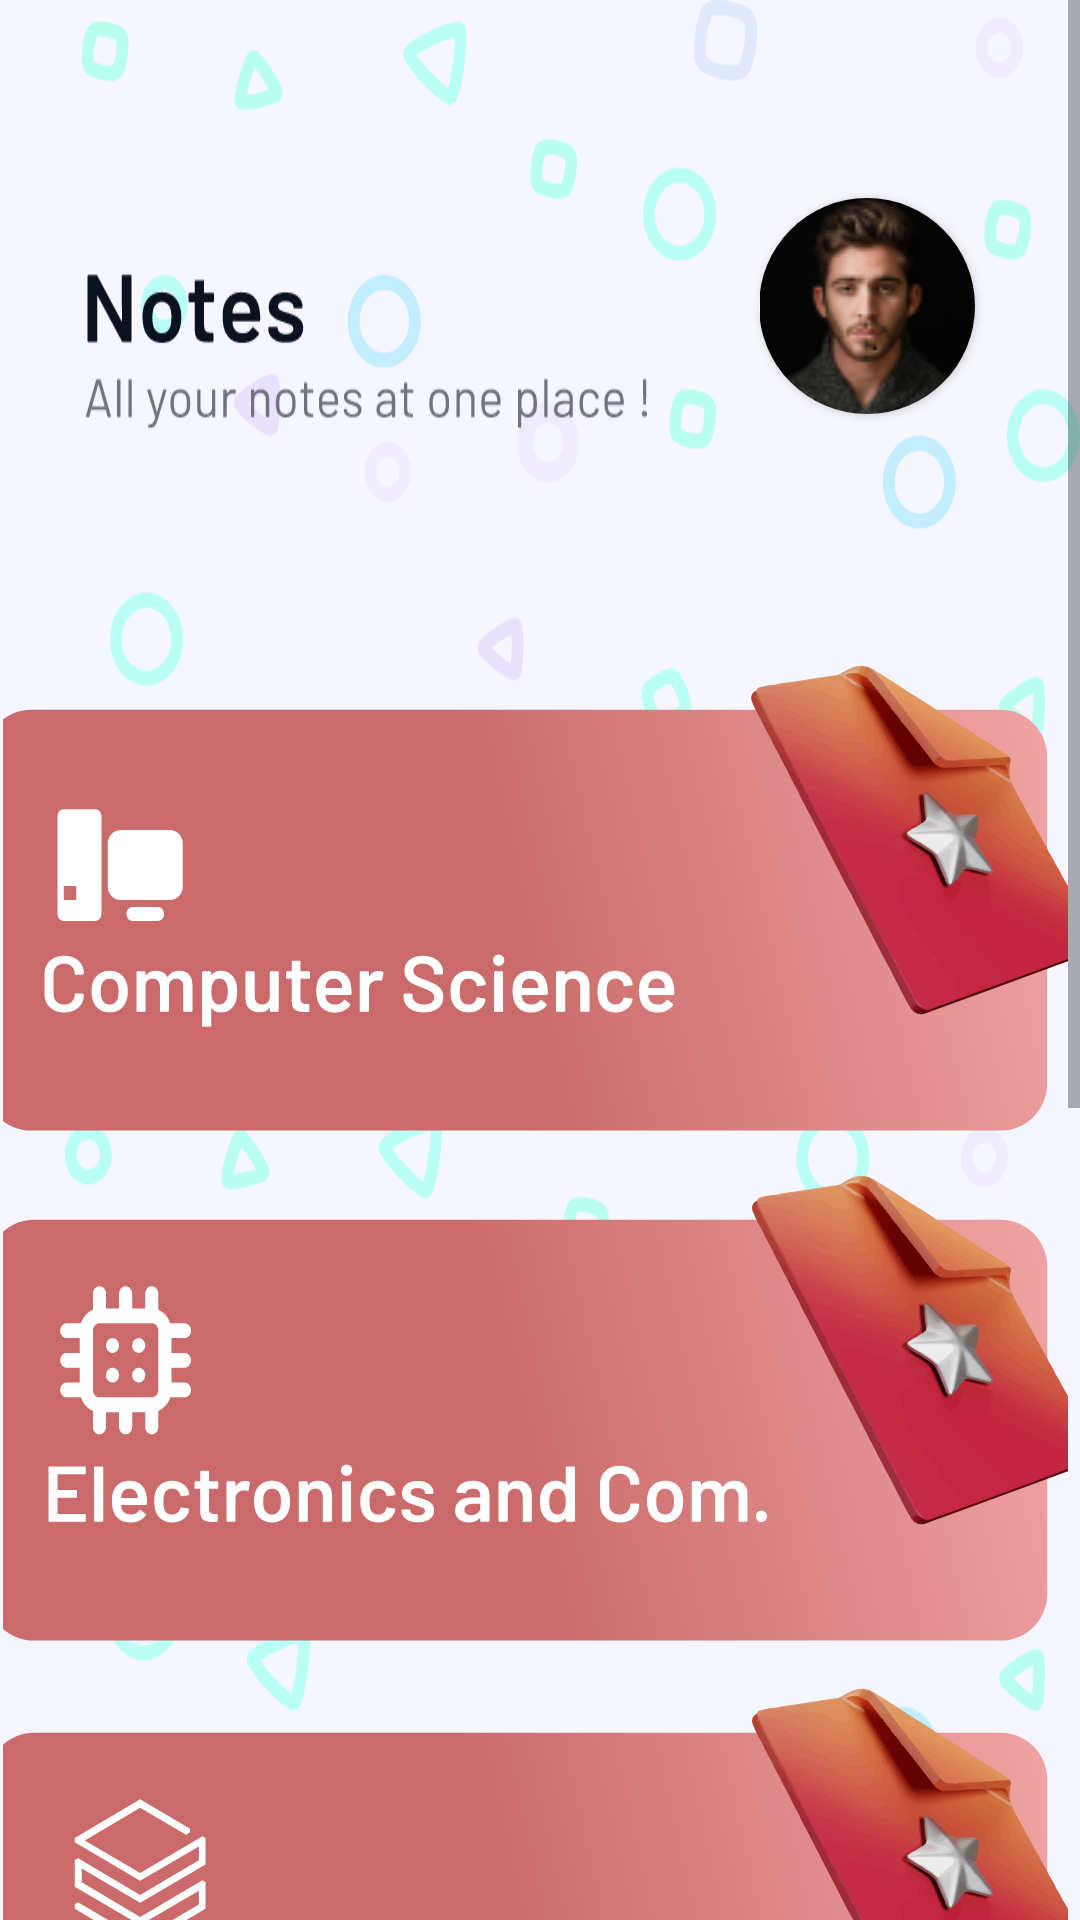

Point at icon controls on the screen. Image size 1080 x 1920, points as (x=x, y=y).
men profile: (x=867, y=306)
